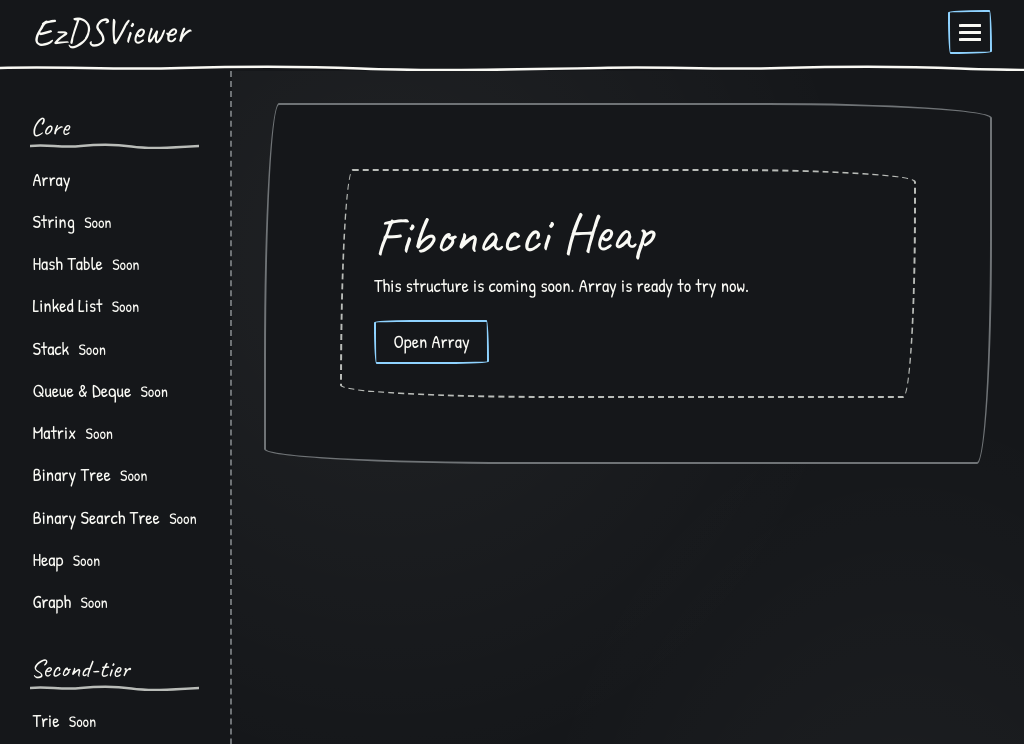
Scenario: theme menu › clicking outside closes the menu
The image size is (1024, 744).
Step 1. Click the button named "Choose style" → [970, 32], box top-left (948, 10), bottom-right (992, 54)
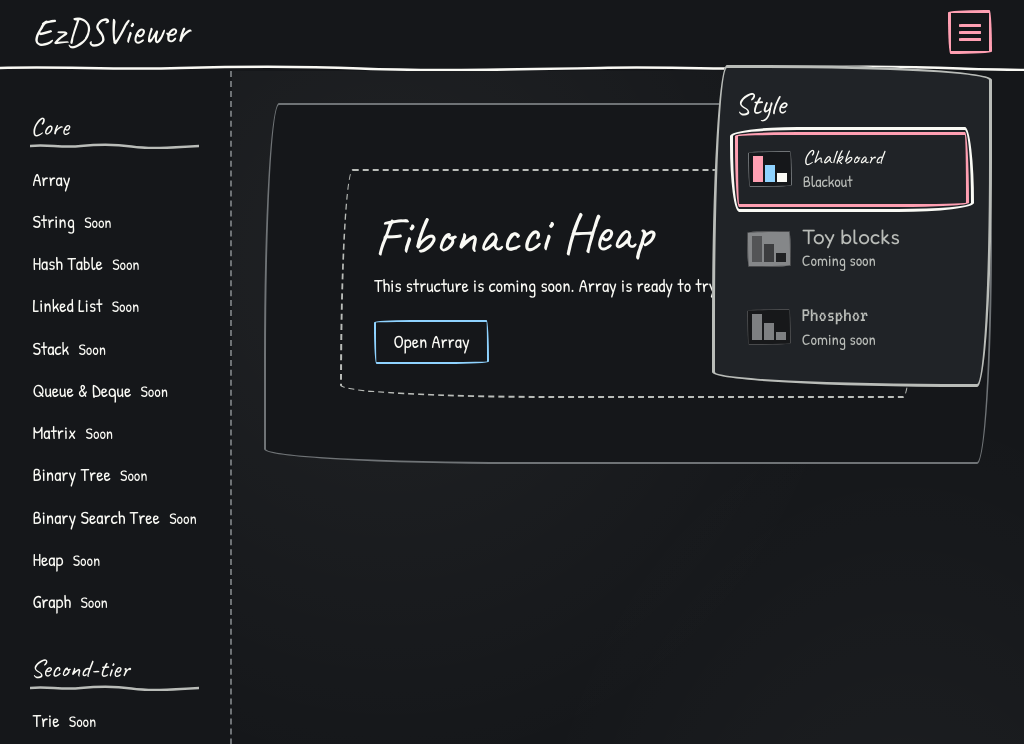
Step 2. Click the heading "EzDSViewer" → [110, 32], box top-left (32, 10), bottom-right (189, 55)
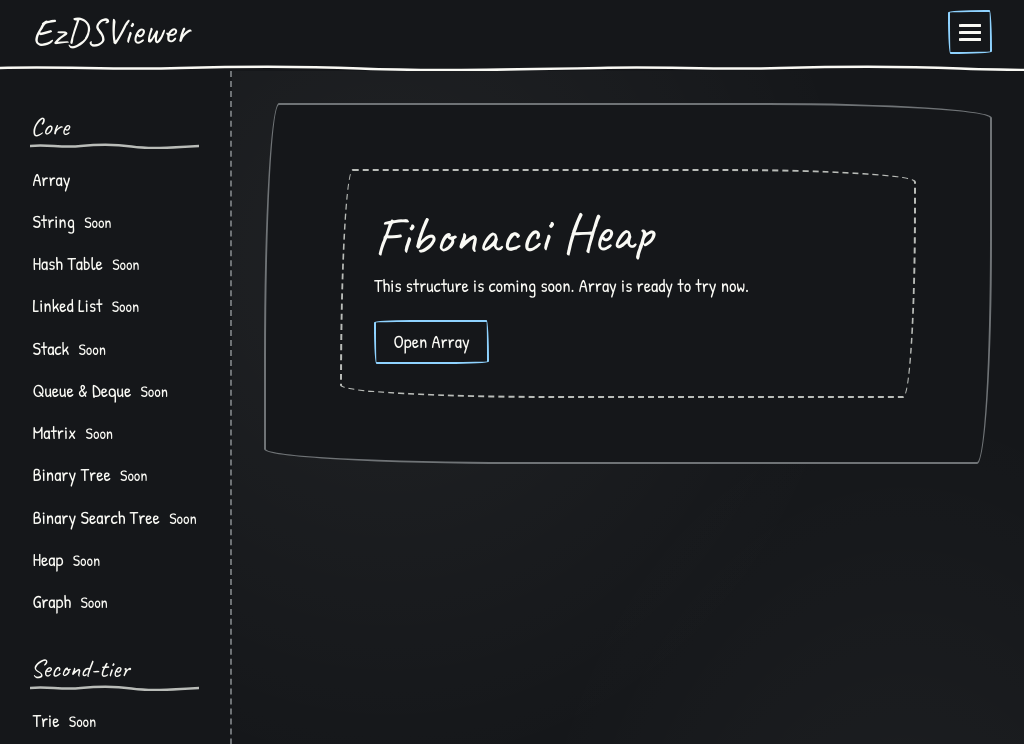
Check: the radio button is gone
